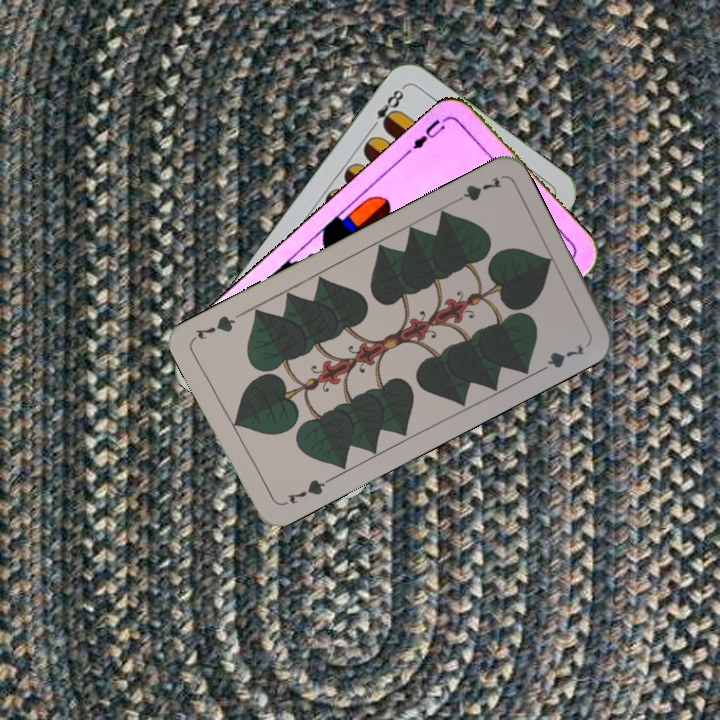E8: (366, 83, 407, 133)
EU: (408, 112, 451, 152)
G7: (448, 173, 505, 207), (283, 474, 333, 506)
